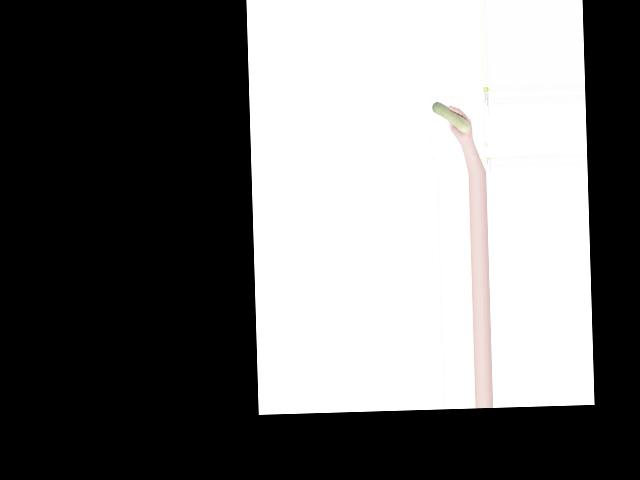cucumber: (432, 101, 470, 133)
